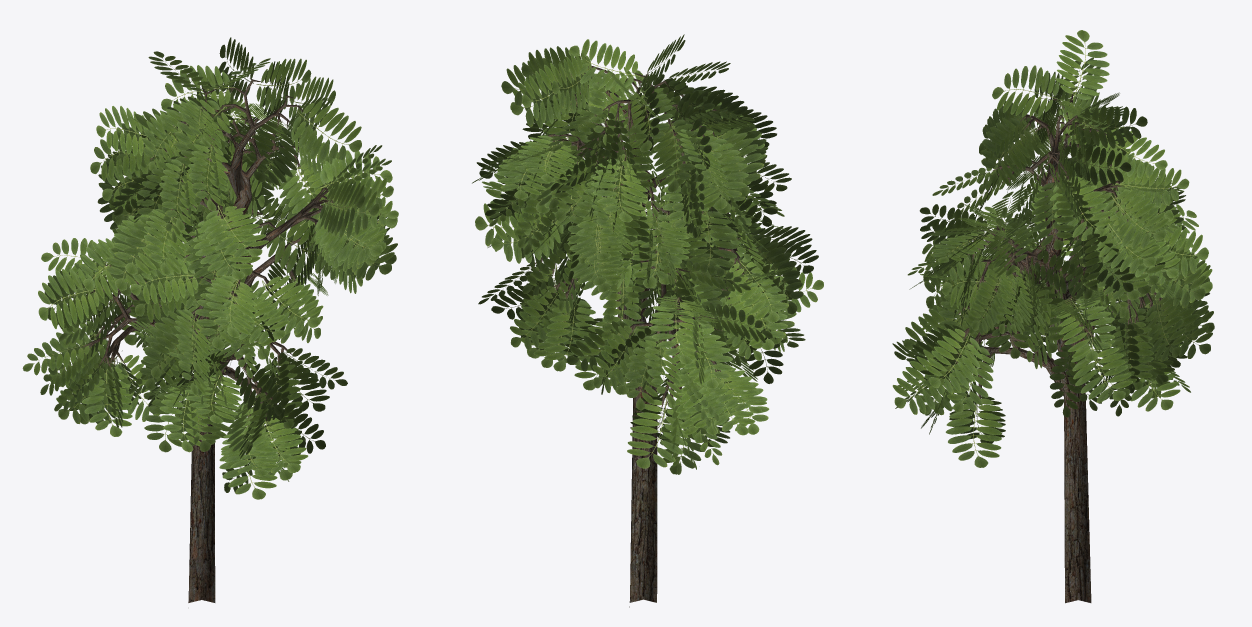
The model's file is tree2.glb.
3 views of the same model, side by side, from view 1: azimuth 30°, elevation 25°; view 2: azimuth 150°, elevation 25°; view 3: azimuth 270°, elevation 25° (orthographic). The views are drawn at different scales.
Parts seen in each view (by area): view 1: _MeshInstance3D_366; view 2: _MeshInstance3D_366; view 3: _MeshInstance3D_366.
Part boxes in pixels (<box>): _MeshInstance3D_366: <box>22,37,398,602</box>; _MeshInstance3D_366: <box>472,34,823,607</box>; _MeshInstance3D_366: <box>892,30,1214,603</box>.
Size of the model in its own units: 4.81 by 7.89 by 4.59.
2 materials, 2 textured.
